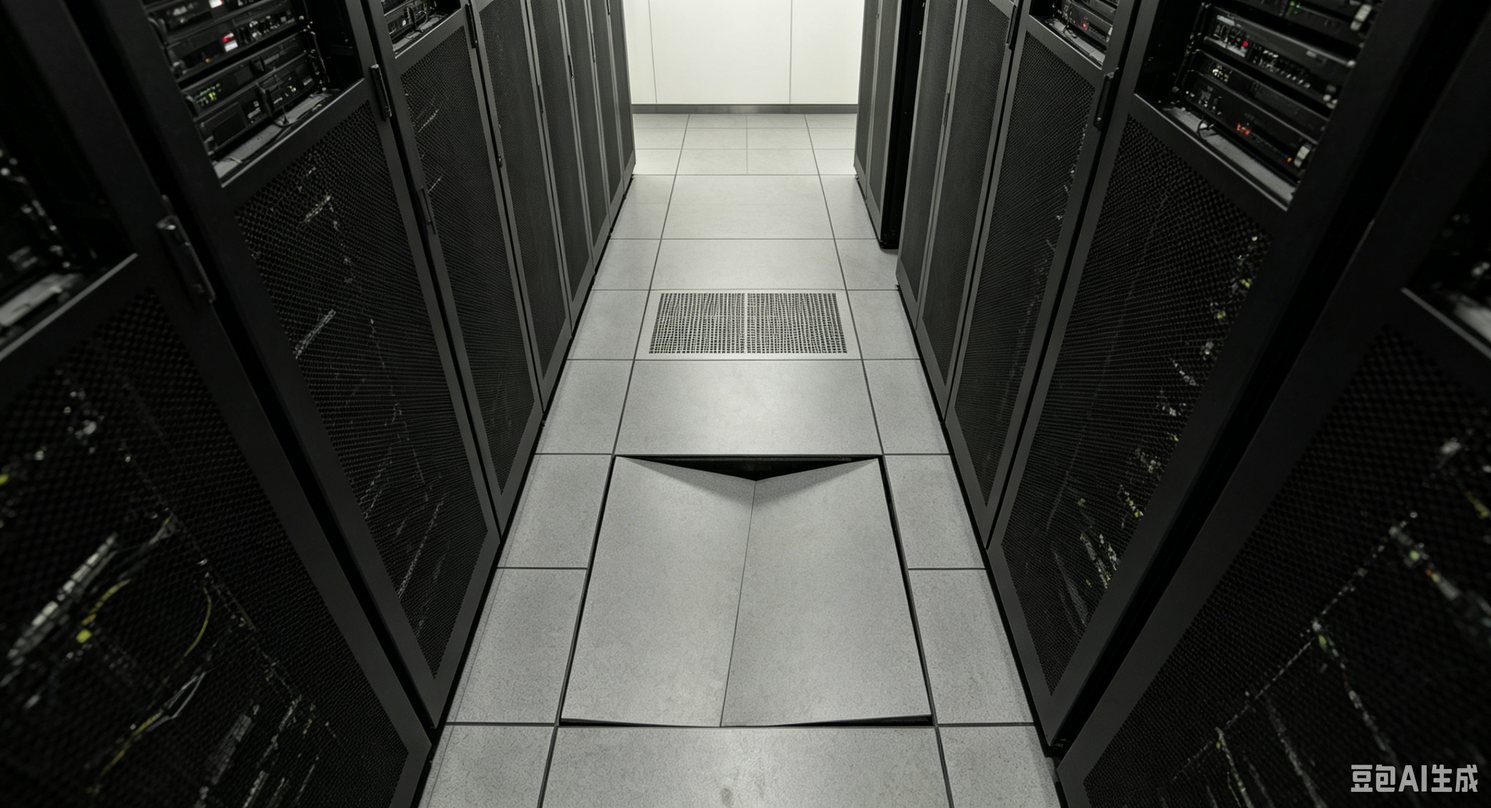floor_defect: (549, 445, 943, 733)
